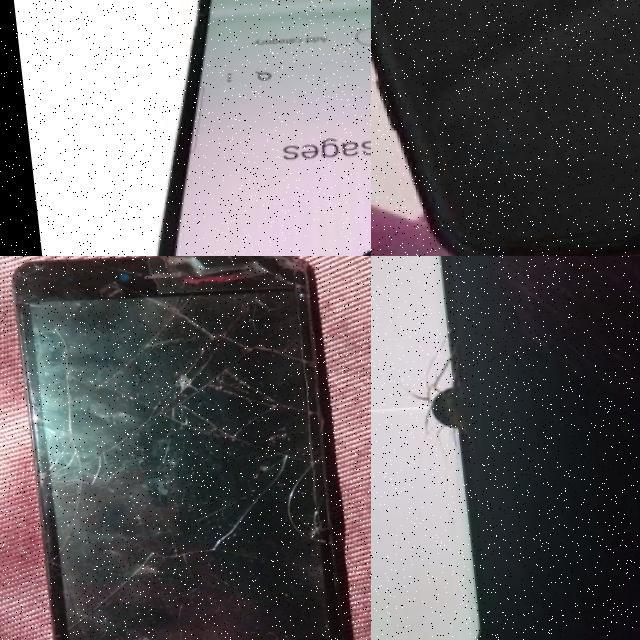dead pixel: (404, 385, 477, 441)
screen crack: (11, 256, 343, 640), (393, 333, 451, 466)
